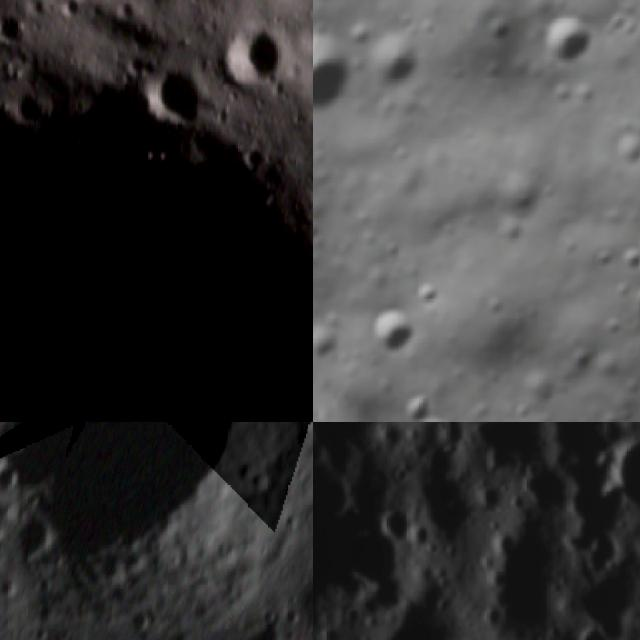crater: (0, 422, 303, 640), (313, 14, 362, 131), (592, 422, 640, 529), (361, 26, 433, 96), (224, 30, 294, 88), (359, 302, 421, 362), (370, 498, 430, 556), (533, 10, 592, 68), (146, 70, 203, 120), (481, 7, 519, 45), (313, 318, 344, 364), (609, 126, 640, 171), (566, 613, 617, 640), (397, 389, 434, 422), (409, 276, 442, 309), (0, 10, 30, 46), (615, 242, 640, 273), (378, 237, 404, 260)
